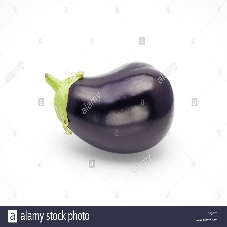eggplant: (57, 64, 175, 155)
